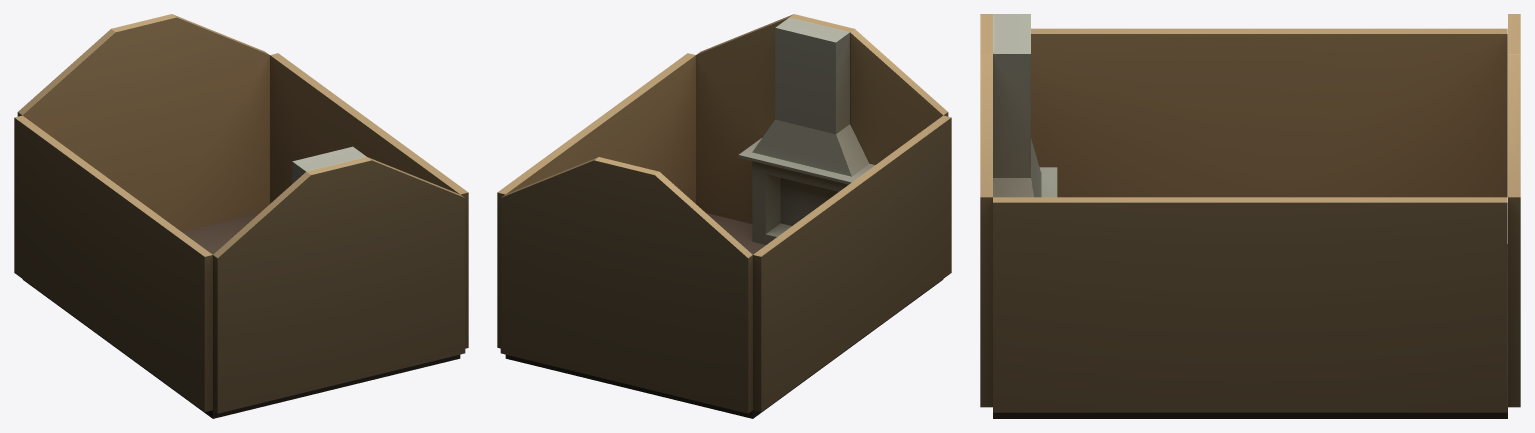
The model's file is house.fbx.
3 views of the same model, side by side, from view 1: azimuth 30°, elevation 25°; view 2: azimuth 150°, elevation 25°; view 3: azimuth 270°, elevation 25° (orthographic). The views are drawn at different scales.
Visible parts, largest first — view 1: Plane.015; view 2: Plane.015; view 3: Plane.015.
Part boxes in pixels (bbox=[...]): Plane.015: bbox=[14, 14, 468, 418]; Plane.015: bbox=[497, 14, 951, 418]; Plane.015: bbox=[980, 14, 1520, 418].
Bounding box in the file's own units: 3.2 × 2.6 × 4.2.
